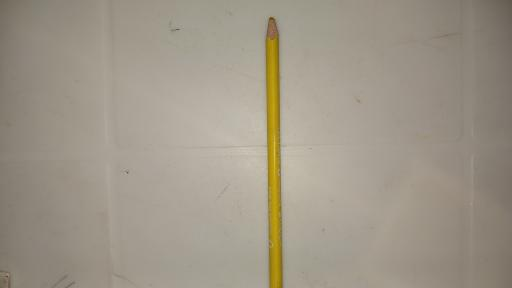Pencil: (267, 15, 281, 288)
